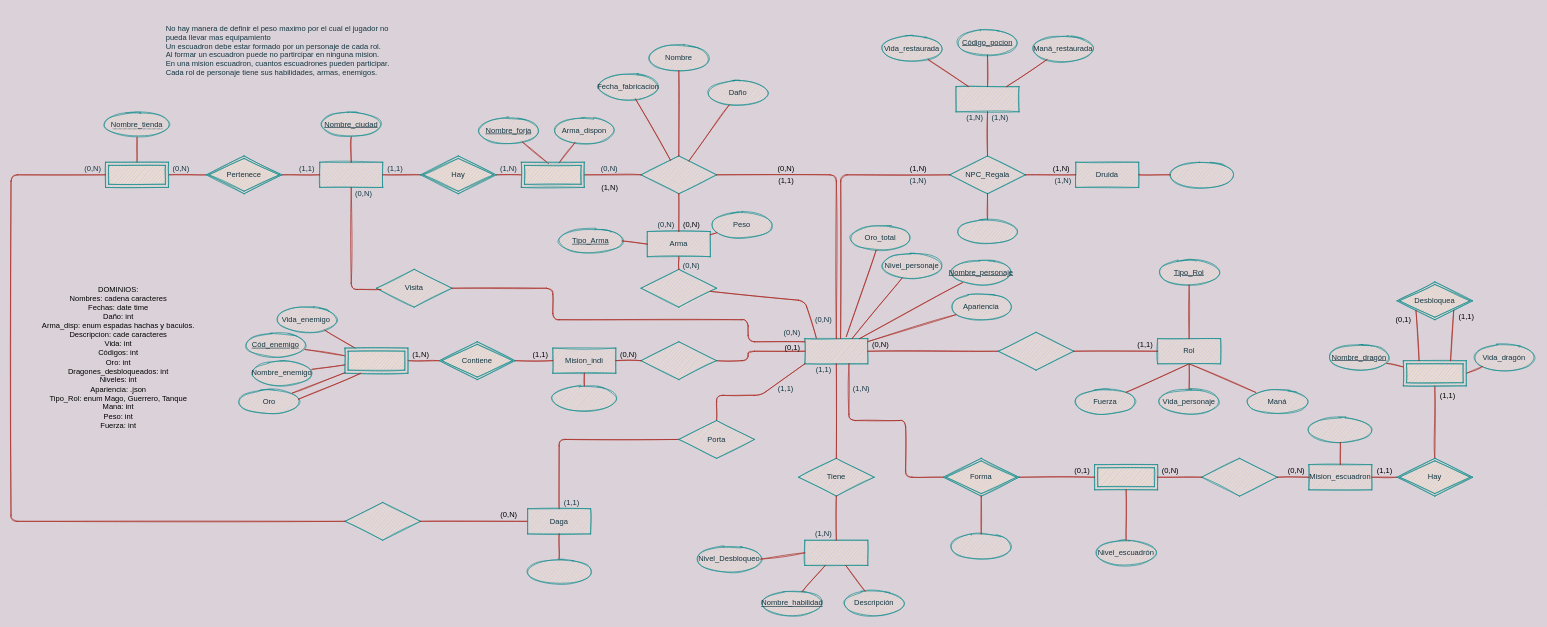
The diagram is 1547 pixels wide and 627 high, and some of its shapes have lost their labels. Each missing label, with the centre of its shape:
Ciudad: pixel 351 174
Compra: pixel 382 521
Cód_misionEsc: pixel 1340 430
Cód_misionIndi: pixel 584 398
Dragones_desbloq: pixel 981 546
Dragón: pixel 1434 373
Elige: pixel 1036 351
Enemigo: pixel 376 360
Escuadrón: pixel 1126 477
Fabrica: pixel 678 174
Fecha_regalo: pixel 987 231
Forja: pixel 552 174
Habilidad: pixel 836 552
ID: pixel 559 571
ID_NPC: pixel 1201 174
Participa: pixel 678 360
Participa_escuadron: pixel 1239 477
Personaje: pixel 836 351
Poción: pixel 987 99
Posee: pixel 678 288
Tienda: pixel 137 174
